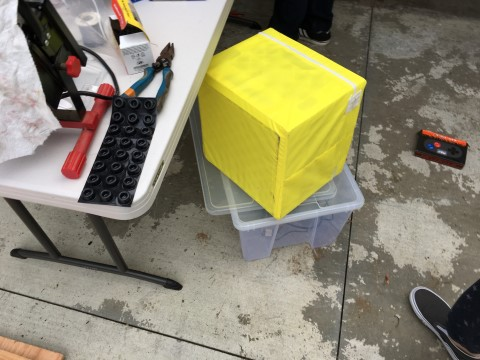cube: (197, 27, 368, 221)
